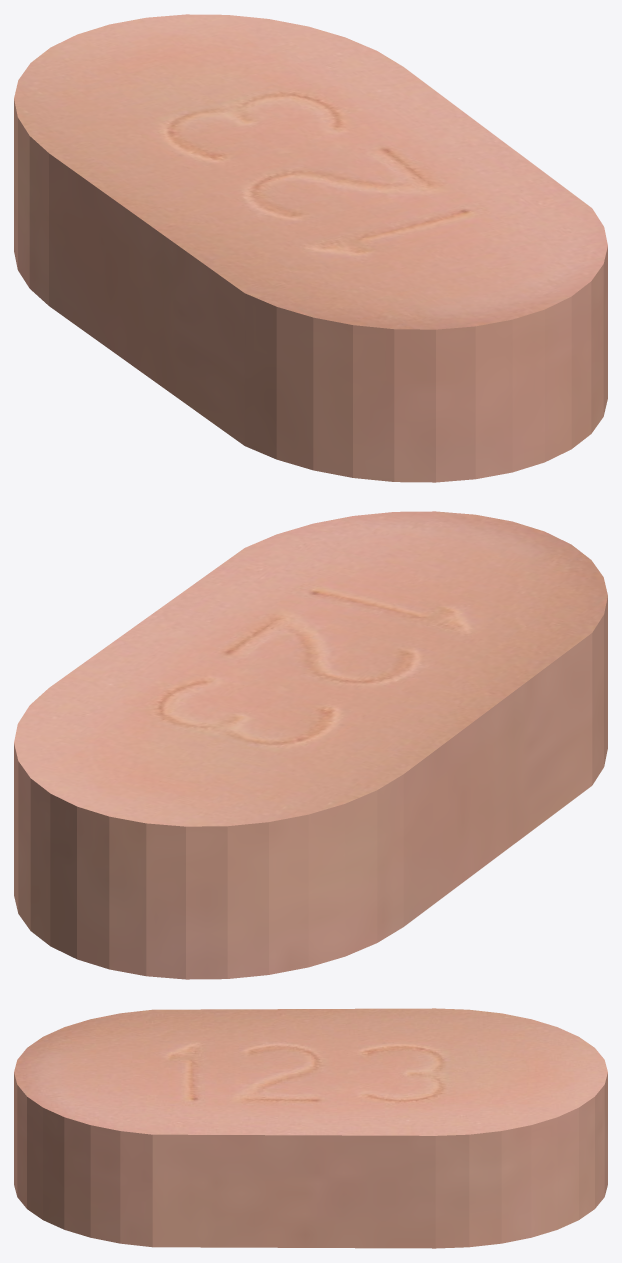
3 renders of one model, top to bottom at view 1: azimuth 30°, elevation 25°; view 2: azimuth 150°, elevation 25°; view 3: azimuth 270°, elevation 25°, orthographic. The views are drawn at different scales.
Parts seen in each view (by area): view 1: 圓柱體; view 2: 圓柱體; view 3: 圓柱體.
Part boxes in pixels (<box>): 圓柱體: <box>14,14,607,482</box>; 圓柱體: <box>14,511,607,979</box>; 圓柱體: <box>14,1008,607,1248</box>.
Size of the model in its own units: 1.7 by 0.7007 by 3.35.
